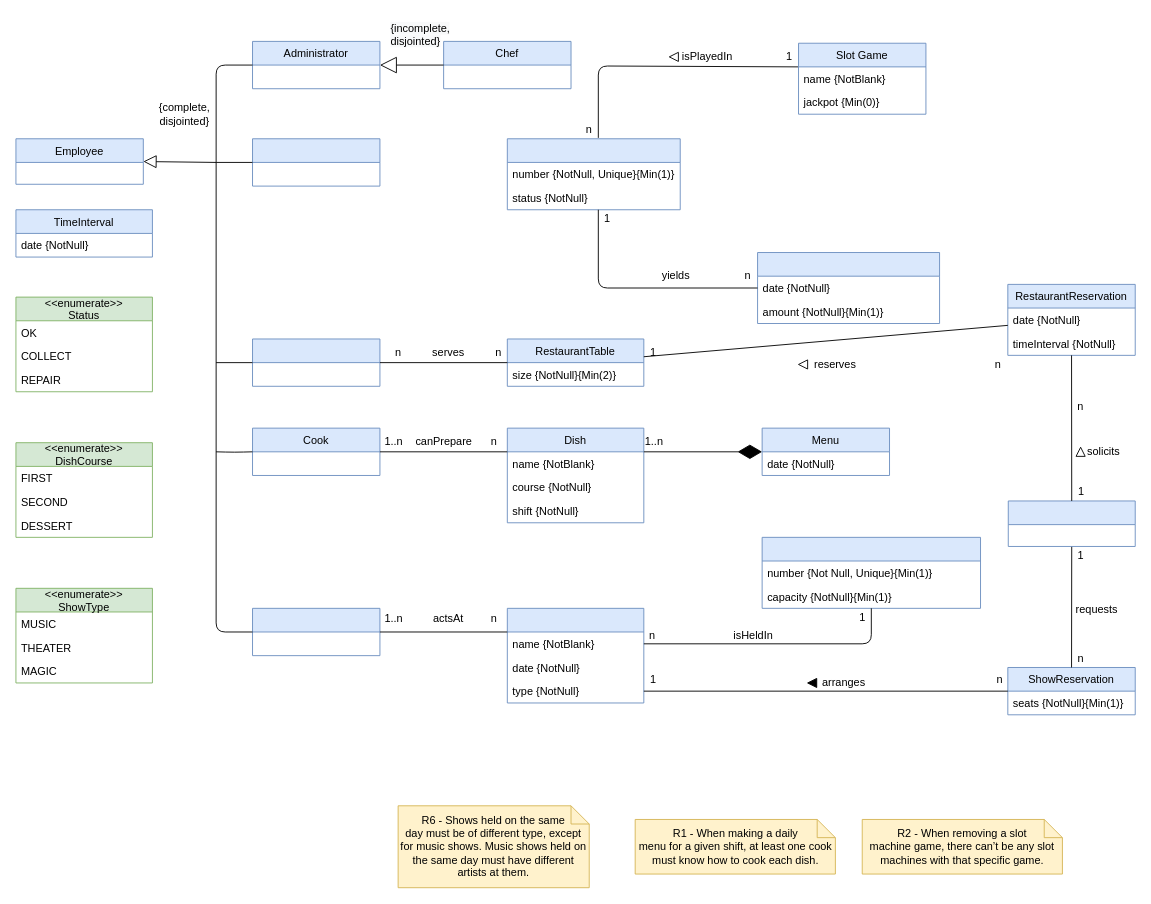
The diagram is 1151 pixels wide and 904 high, and some of its shapes have lost their labels. Each missing label, with the box of its shape:
Artist: (252, 607, 380, 656)
Client: (1007, 500, 1135, 546)
Event: (506, 607, 644, 703)
MaintenanceWorker: (252, 138, 380, 186)
Slot machine: (506, 138, 680, 210)
SlotMachineGain: (757, 252, 940, 324)
Stage: (761, 536, 981, 608)
Waiter: (252, 338, 380, 386)
